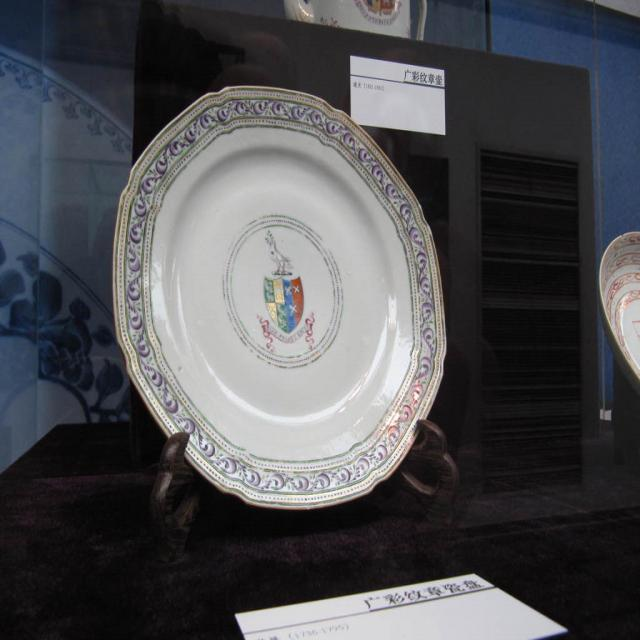ceramic plate: (115, 91, 462, 526)
